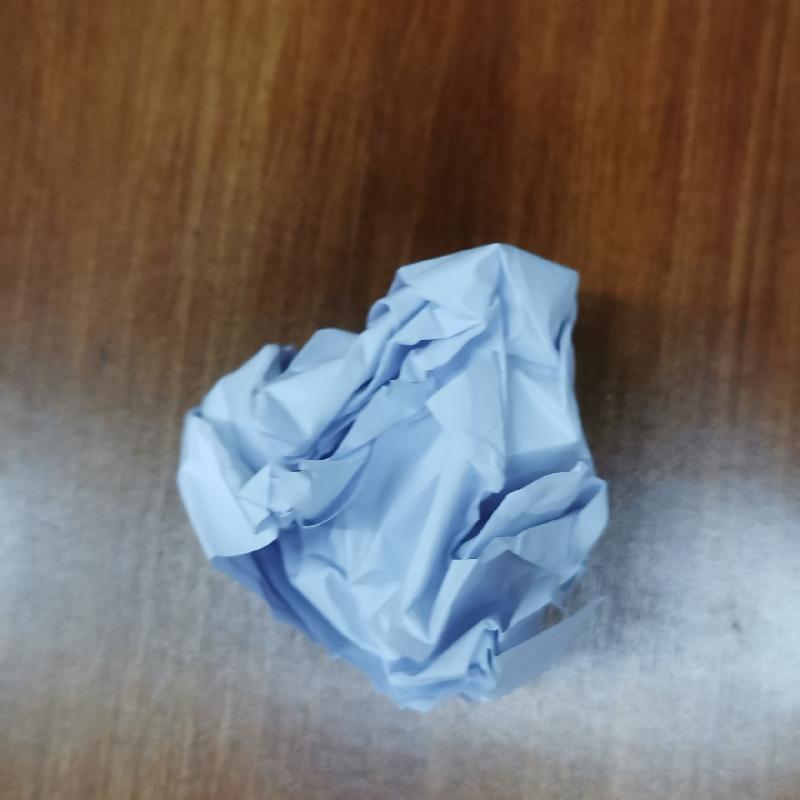spitball: (165, 237, 619, 716)
